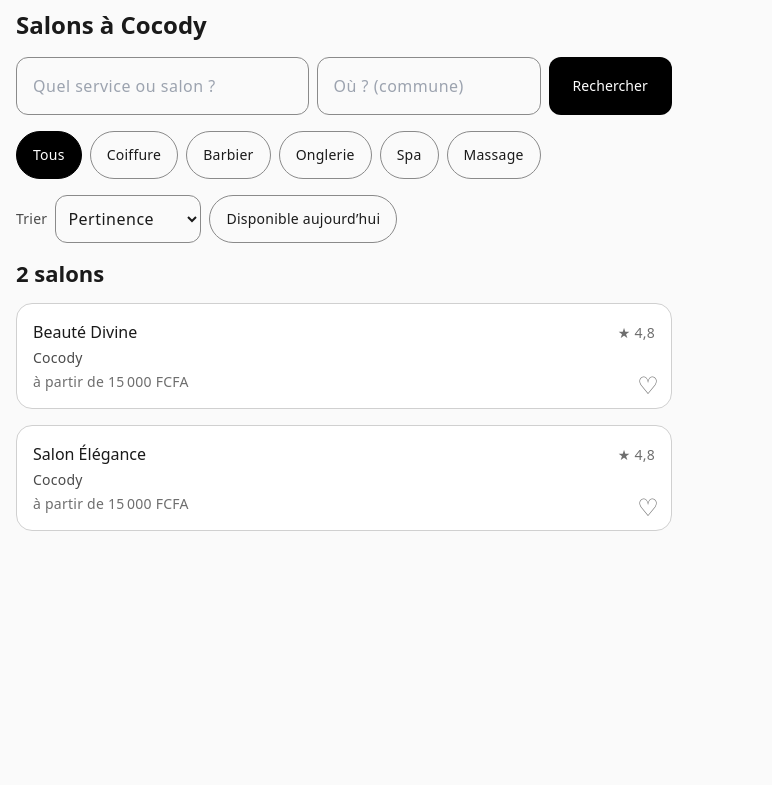
Test case: B5.4 — the search ♥ says what it did › « Annuler » that fails: the heart stays full, the sentence under the card
What coordinates should you click on to do the following:
click the button named "Ajouter Beauté Divine aux favoris"
I would click on:
 (648, 385)
Its box is [624, 361, 672, 409].
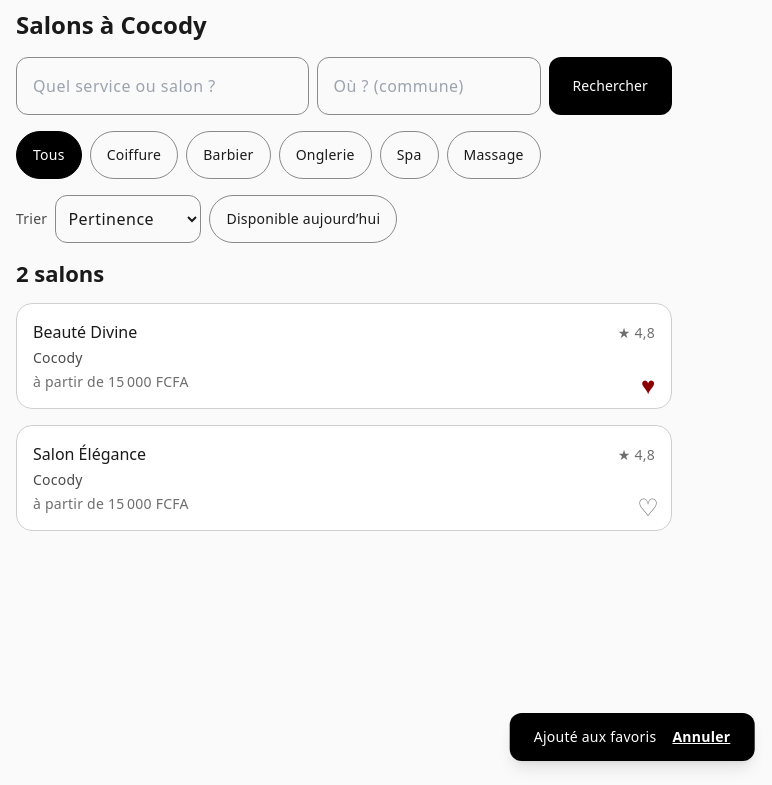
Expected: the text "Ajouté aux favoris" is shown, [534, 727, 656, 746]
What coordinates should you click on to do the following:
click the button "Annuler"
I would click on:
 (701, 737)
Its box is [672, 713, 730, 761].
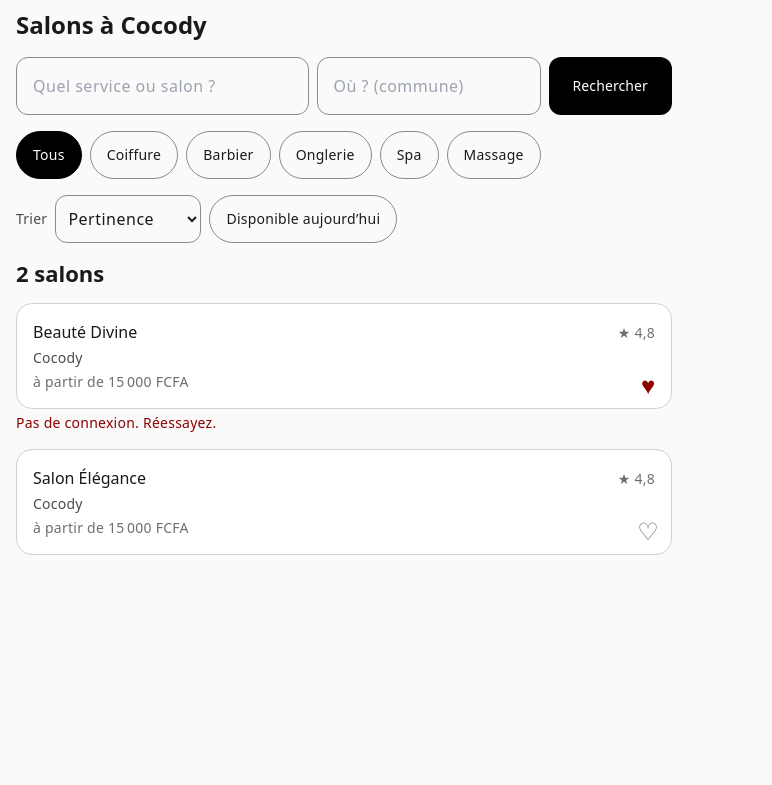
Expected: the message reads "Pas de connexion. Réessayez.", [16, 413, 216, 432]
